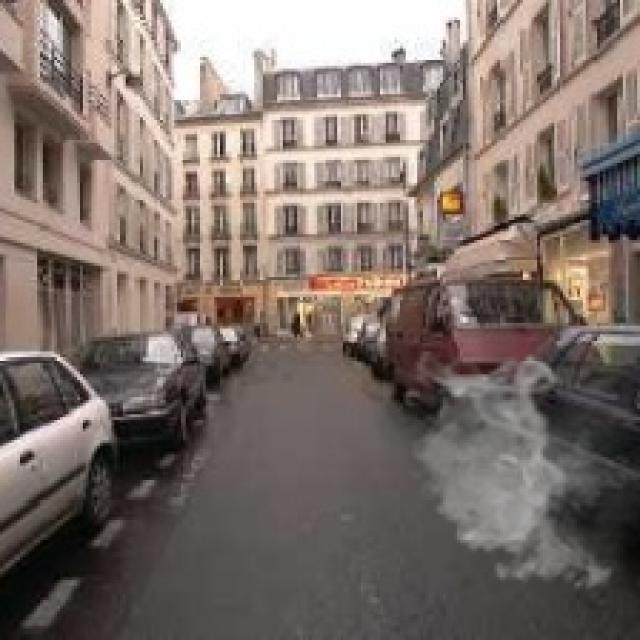Smoke: (402, 351, 638, 600)
